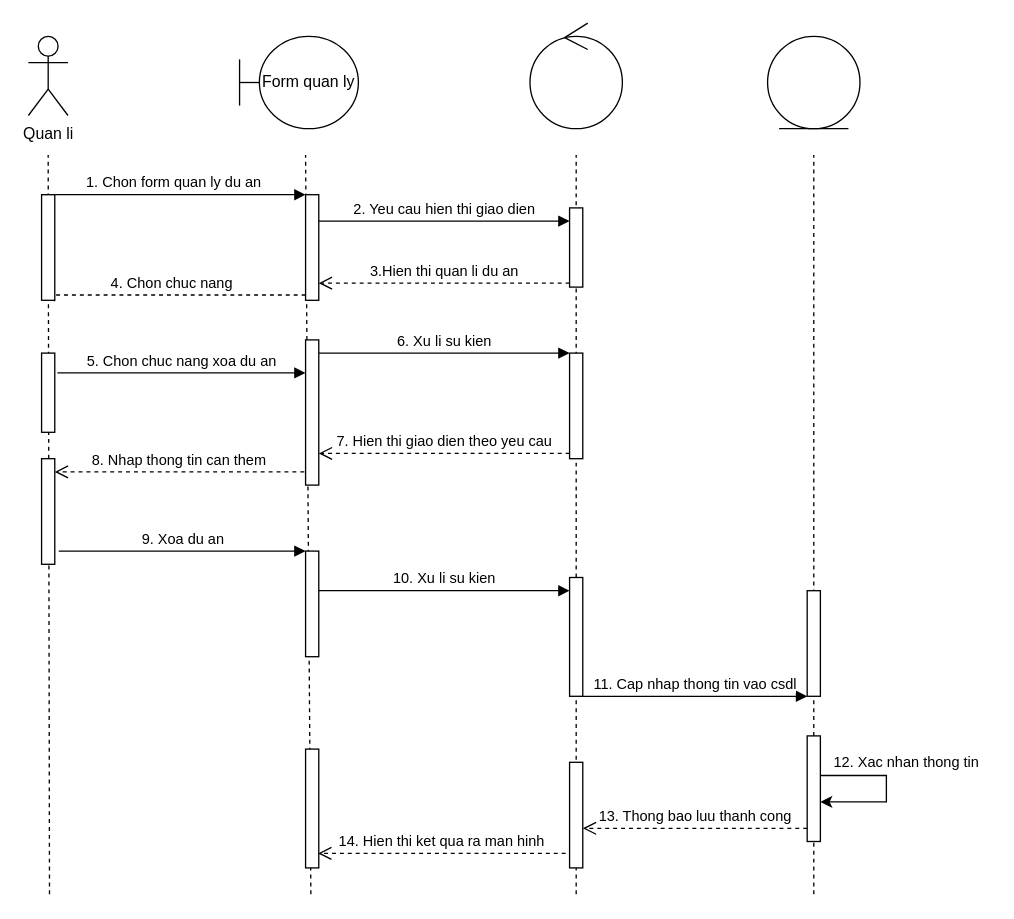
This 1014x919 diagram has some shape labels left out. Each missing label, with the centre of its shape:
"Control Quan ly du an" belongs at (575,75).
"Du an" belongs at (813,82).
